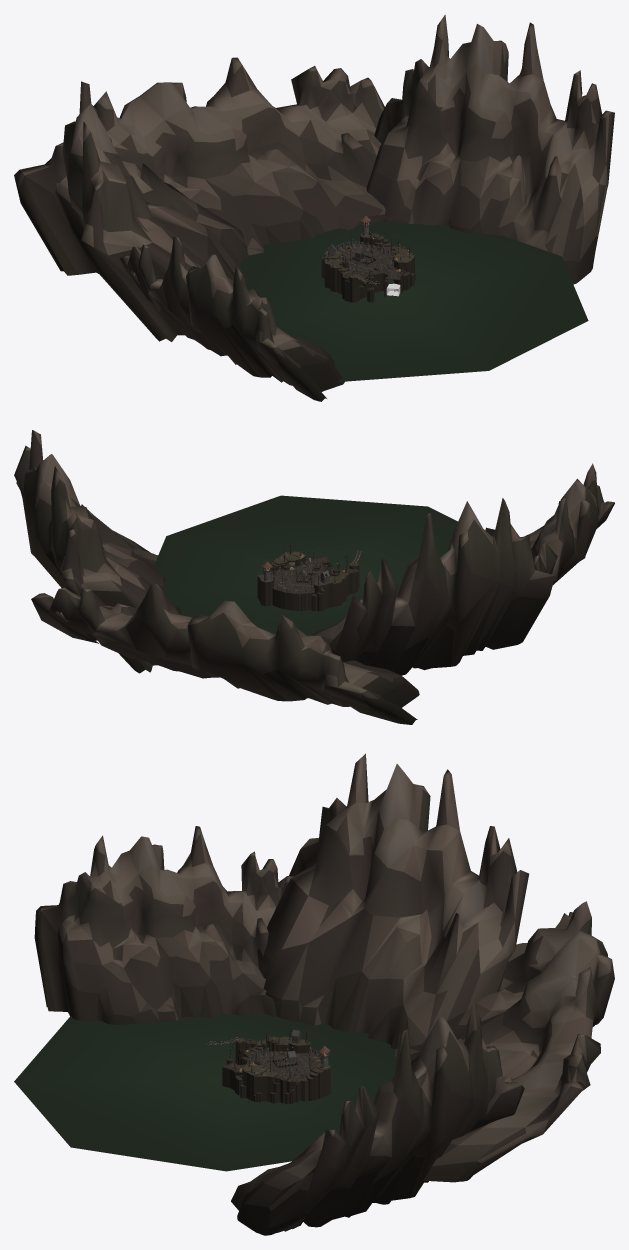
File: narrowGraveyard.glb
3 views of the same model, one above another, from view 1: azimuth 30°, elevation 25°; view 2: azimuth 150°, elevation 25°; view 3: azimuth 270°, elevation 25° (orthographic). The views are drawn at different scales.
Visible parts, largest first — view 1: mountains_.001, mountains_, sea, mountains_.003, mountains_.002, mainRocks_.015, mainRocks_.034; view 2: mountains_.003, sea, mountains_, mountains_.001, mountains_.002, mainRocks_.015, mainRocks_.034, mainRocks_.023; view 3: mountains_.003, sea, mountains_.002, mountains_.001, mountains_, mainRocks_.015, mainRocks_.023.
Boxes of the visible parts, x1=… form: mountains_.001: x1=366, y1=14, x2=614, y2=284; mountains_: x1=14, y1=57, x2=404, y2=275; sea: x1=233, y1=221, x2=588, y2=382; mountains_.003: x1=62, y1=81, x2=249, y2=341; mountains_.002: x1=119, y1=236, x2=344, y2=401; mainRocks_.015: x1=335, y1=243, x2=414, y2=302; mainRocks_.034: x1=324, y1=250, x2=343, y2=291; mountains_.003: x1=310, y1=498, x2=554, y2=675; sea: x1=154, y1=495, x2=457, y2=635; mountains_: x1=31, y1=584, x2=419, y2=724; mountains_.001: x1=14, y1=430, x2=181, y2=673; mountains_.002: x1=524, y1=463, x2=614, y2=584; mainRocks_.015: x1=263, y1=551, x2=359, y2=610; mainRocks_.034: x1=313, y1=574, x2=346, y2=608; mainRocks_.023: x1=257, y1=574, x2=273, y2=606; mountains_.003: x1=257, y1=753, x2=529, y2=1048; sea: x1=14, y1=1013, x2=411, y2=1171; mountains_.002: x1=34, y1=826, x2=293, y2=1024; mountains_.001: x1=231, y1=1003, x2=524, y2=1235; mountains_: x1=395, y1=901, x2=614, y2=1182; mainRocks_.015: x1=222, y1=1037, x2=320, y2=1103; mainRocks_.023: x1=301, y1=1064, x2=330, y2=1101.
Size of what is drawn, in the model's own units: 475 by 190 by 424.
